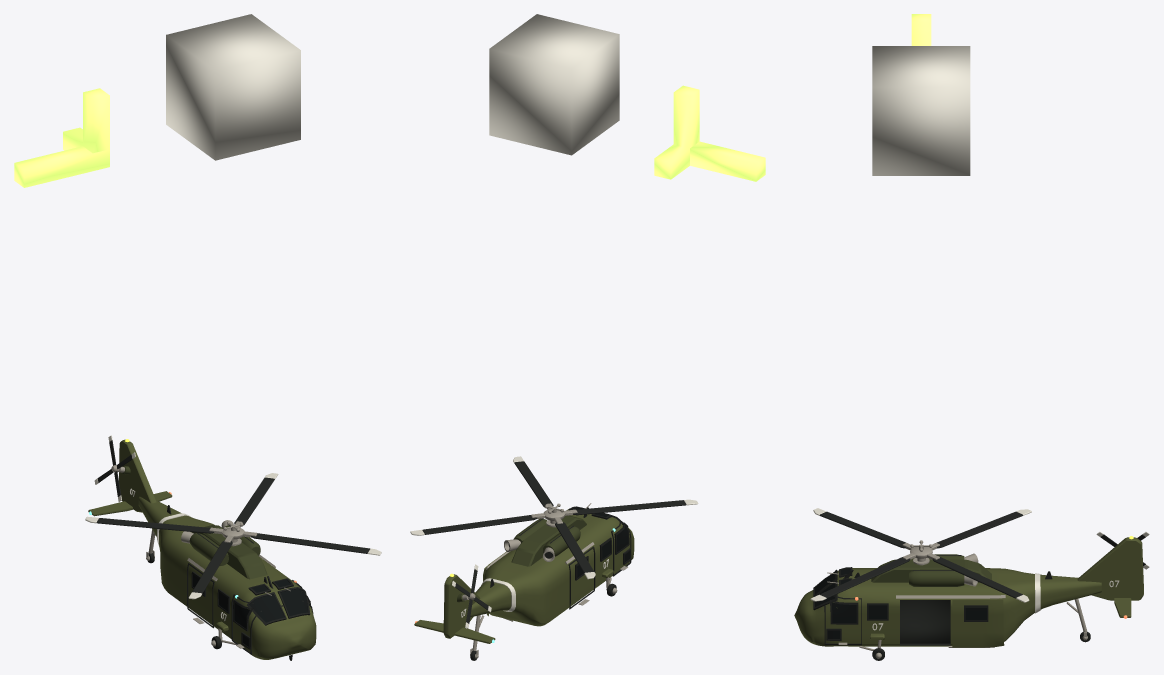
The model's file is heli.fbx.
The picture shows the model from 3 angles, left to right: view 1: azimuth 30°, elevation 25°; view 2: azimuth 150°, elevation 25°; view 3: azimuth 270°, elevation 25°; orthographic projection. The views are drawn at different scales.
Parts seen in each view (by area): view 1: K_Scale7, HX_Body__olive, K_Marker7, HX_RotorMain__blade, HX_Body__trim_dark, HX_Body__olive_dark, HX_Body__glass, HX_Body__metal; view 2: K_Scale7, HX_Body__olive, K_Marker7, HX_RotorMain__blade, HX_Body__olive_dark, HX_Body__trim_dark, HX_Body__metal; view 3: K_Scale7, HX_Body__olive, HX_RotorMain__blade, HX_Body__cabin, HX_Body__olive_dark, HX_Door__olive, HX_Body__trim_dark, HX_Body__glass, HX_Body__metal, K_Marker7.
Boxes of the visible parts, x1,y1,x2,y2 form: K_Scale7: (166,14,300,160); HX_Body__olive: (88,439,316,659); K_Marker7: (14,88,109,187); HX_RotorMain__blade: (96,477,369,593); HX_Body__trim_dark: (148,505,313,660); HX_Body__olive_dark: (122,466,267,579); HX_Body__glass: (193,574,307,646); HX_Body__metal: (118,466,290,648); K_Scale7: (489,14,619,155); HX_Body__olive: (414,509,634,643); K_Marker7: (654,85,765,181); HX_RotorMain__blade: (422,461,686,573); HX_Body__olive_dark: (457,515,586,602); HX_Body__trim_dark: (470,506,631,660); HX_Body__metal: (462,503,627,658); K_Scale7: (872,46,970,175); HX_Body__olive: (794,537,1143,646); HX_RotorMain__blade: (819,511,1022,598); HX_Body__cabin: (900,600,950,643); HX_Body__olive_dark: (871,554,991,586); HX_Door__olive: (952,599,1004,647); HX_Body__trim_dark: (813,555,1090,660); HX_Body__glass: (815,568,886,638); HX_Body__metal: (827,553,1087,658); K_Marker7: (911,14,931,45).
Bounding box in the file's own units: 3631 × 6482 × 3630.
